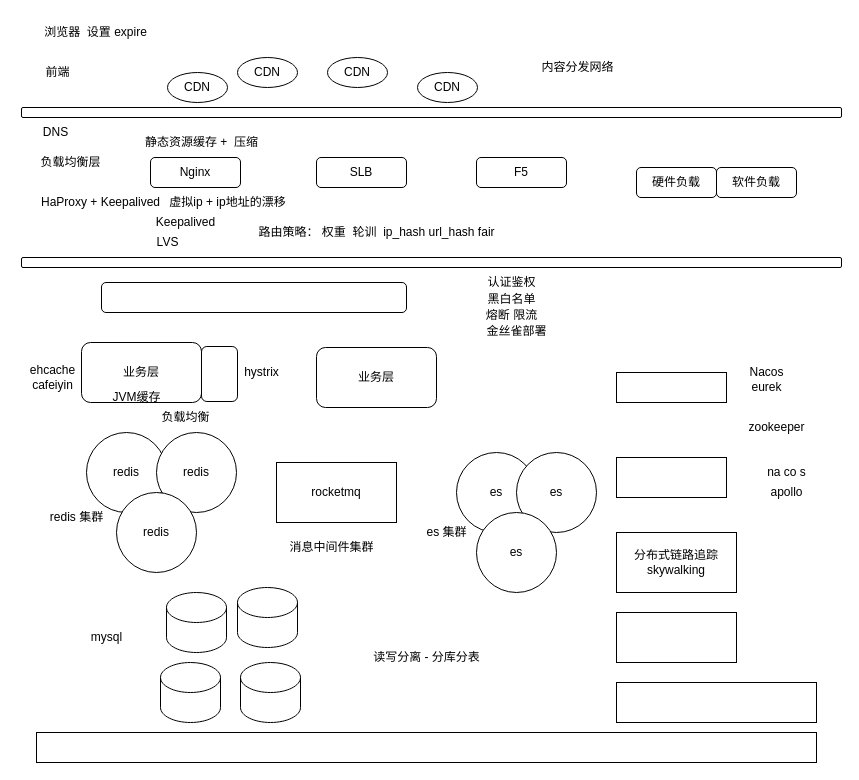
This 859x780 diagram has some shape labels left out. The box of each missing label's shape, as (x1, y1, x2, y2) in pixels:
devops : gitlab + jenkins: (36, 732, 816, 762)
ELK 日志查询: (616, 612, 736, 662)
prothous + grfana 系统监控报警: (616, 682, 816, 722)
服务注册中心集群: (616, 372, 726, 402)
熔断 限流 降级: (200, 346, 238, 402)
网关层: (100, 282, 406, 312)
配置中心集群: (616, 456, 726, 498)
